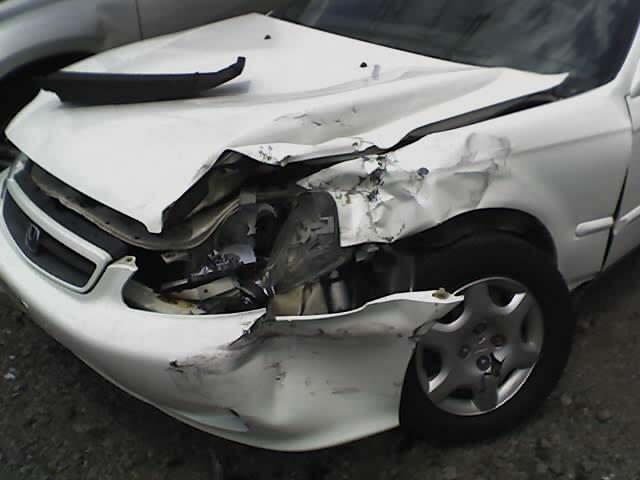Headlight-Damage: (164, 184, 351, 274)
bonnet-dent: (97, 35, 476, 167)
fender-dent: (407, 127, 583, 272)
front-bumper-dent: (67, 272, 443, 437)
